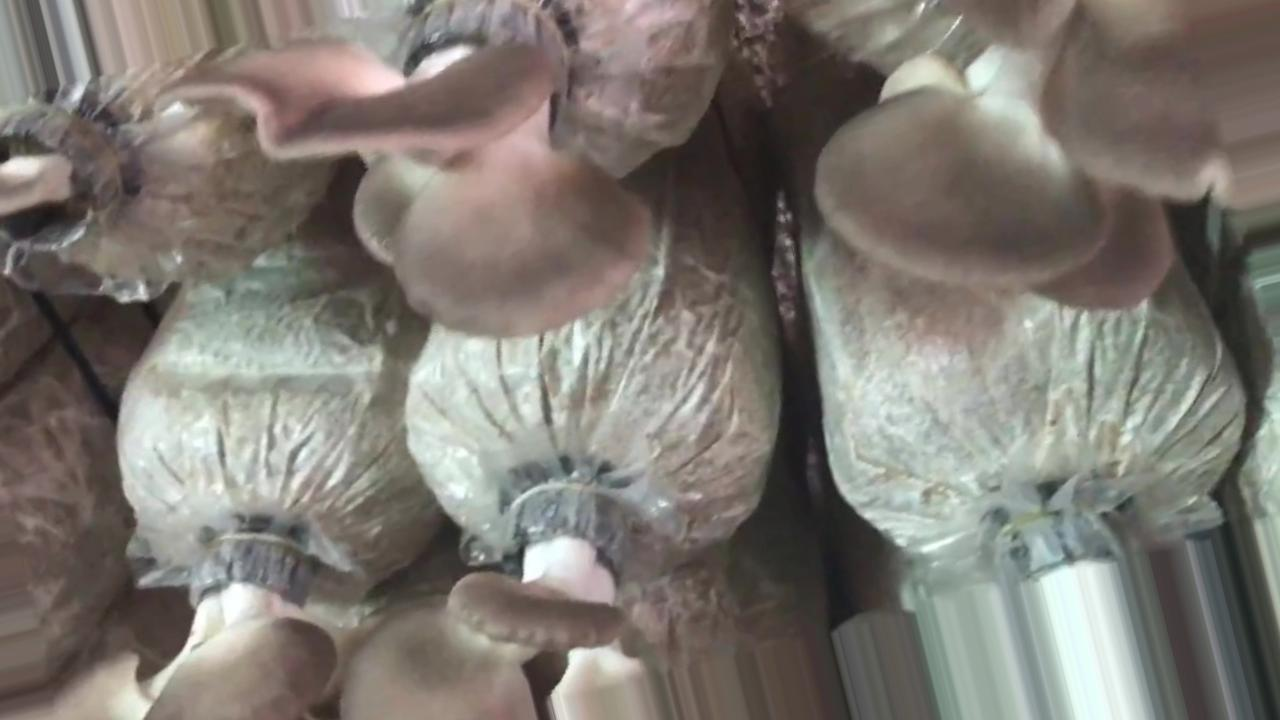nam: (155, 27, 652, 346), (811, 3, 1280, 317), (340, 475, 663, 720), (152, 512, 339, 720)
